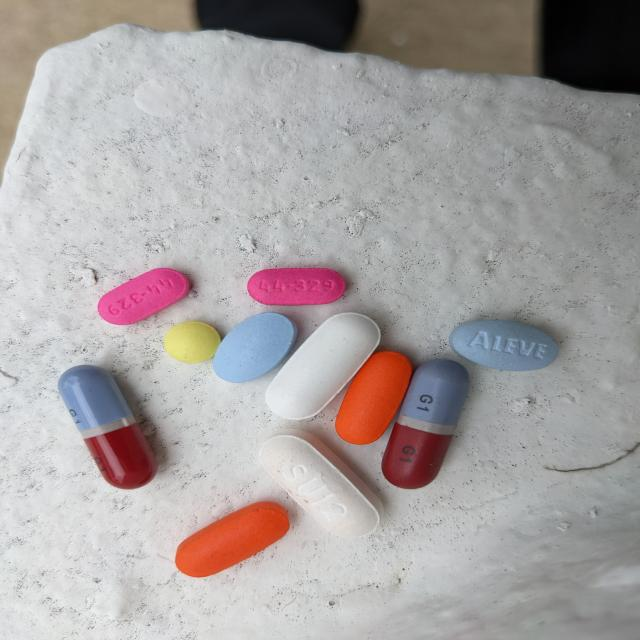non-organic waste: (258, 428, 385, 539), (56, 363, 160, 491), (263, 311, 382, 422), (380, 357, 470, 490), (173, 500, 291, 579), (334, 350, 414, 446), (212, 310, 299, 384), (448, 319, 560, 372), (97, 267, 191, 325), (246, 266, 348, 306), (164, 321, 222, 364)
